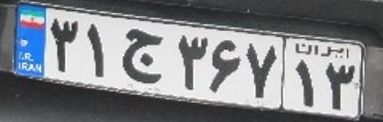character: (111, 27, 170, 85), (241, 37, 280, 100), (171, 29, 209, 92), (320, 57, 358, 113), (208, 35, 241, 98), (46, 13, 80, 74), (80, 20, 110, 79), (289, 57, 320, 108)
